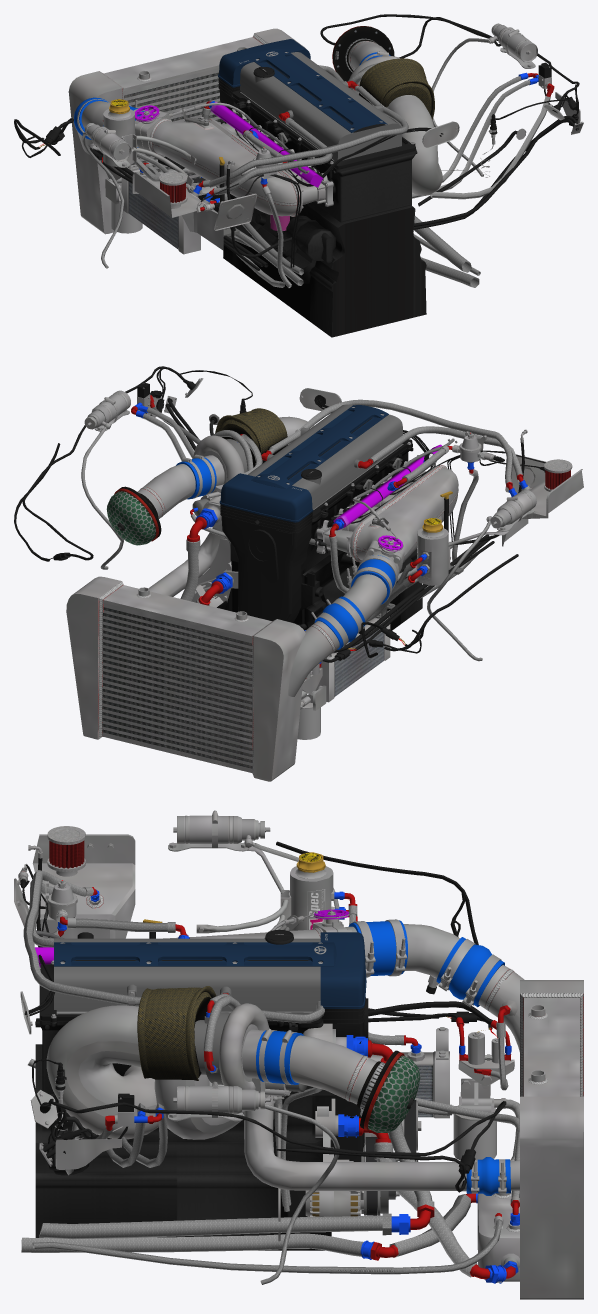
File: toyota-2jz-gte.glb
3 renders of one model, top to bottom at view 1: azimuth 30°, elevation 25°; view 2: azimuth 150°, elevation 25°; view 3: azimuth 270°, elevation 25°, orthographic. The views are drawn at different scales.
Visible parts, largest first — view 1: Object_11, Object_9, Object_3, Object_12, Object_8, Object_4, Object_5, Object_6, Object_2, Object_13; view 2: Object_9, Object_11, Object_3, Object_8, Object_6, Object_12, Object_4, Object_5, Object_2, Object_13; view 3: Object_9, Object_11, Object_12, Object_3, Object_8, Object_5, Object_4, Object_6, Object_2, Object_13.
Boxes of the visible parts, bbox=[...] form: Object_11: bbox=[111, 58, 434, 337]; Object_9: bbox=[68, 23, 583, 254]; Object_3: bbox=[79, 49, 415, 236]; Object_12: bbox=[81, 38, 550, 287]; Object_8: bbox=[111, 51, 442, 233]; Object_4: bbox=[14, 14, 579, 270]; Object_5: bbox=[74, 52, 578, 210]; Object_6: bbox=[218, 39, 310, 123]; Object_2: bbox=[332, 26, 394, 81]; Object_13: bbox=[99, 33, 377, 216]; Object_9: bbox=[66, 378, 583, 781]; Object_11: bbox=[102, 408, 570, 768]; Object_3: bbox=[176, 404, 463, 649]; Object_8: bbox=[182, 416, 458, 739]; Object_6: bbox=[219, 473, 313, 622]; Object_12: bbox=[81, 399, 522, 709]; Object_4: bbox=[14, 366, 545, 662]; Object_5: bbox=[131, 379, 545, 678]; Object_2: bbox=[106, 486, 161, 545]; Object_13: bbox=[98, 465, 532, 777]; Object_9: bbox=[14, 810, 583, 1299]; Object_11: bbox=[35, 840, 432, 1250]; Object_12: bbox=[21, 843, 519, 1284]; Object_3: bbox=[35, 909, 504, 1234]; Object_8: bbox=[46, 910, 496, 1241]; Object_5: bbox=[20, 852, 519, 1283]; Object_4: bbox=[22, 841, 506, 1192]; Object_6: bbox=[320, 932, 368, 1161]; Object_2: bbox=[357, 1050, 420, 1132]; Object_13: bbox=[86, 894, 583, 1232].
Bounding box in the file's own units: 1.56 × 0.7148 × 1.22.
6 materials, 6 textured.
